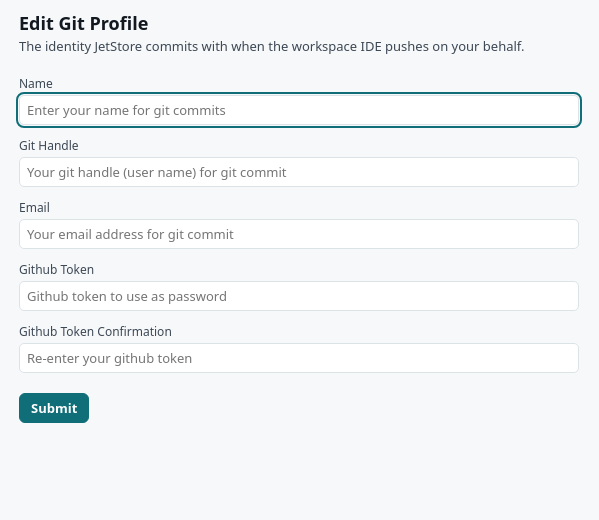
Scenario: the git profile screen › shows no errors before the first submit
Expected: the text "Name must be provided." is not shown
Click the button "Submit". click: {"x": 54, "y": 408}
box: [19,393,89,423]
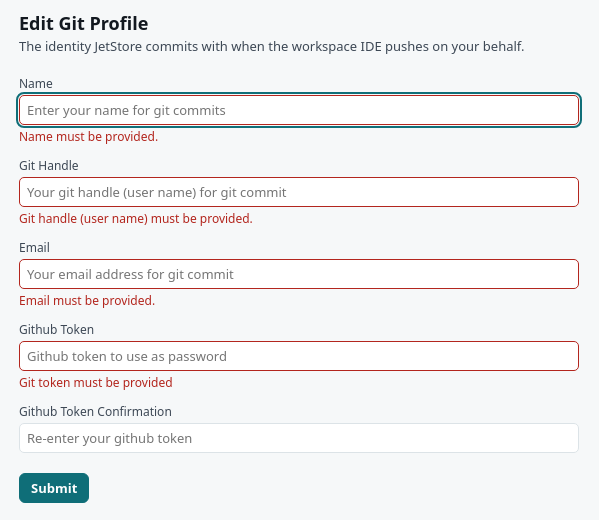
Result: the text "Name must be provided." is shown at [19,128,158,145]
